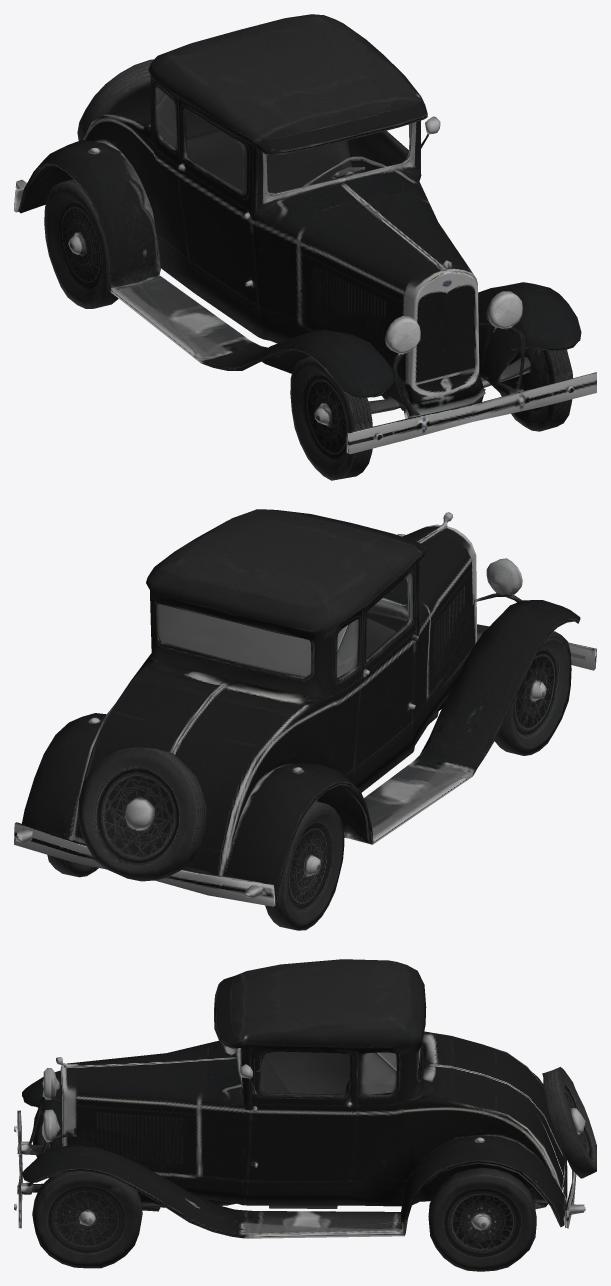
Rendered from coupe.glb.
The picture shows the model from 3 angles, top to bottom: view 1: azimuth 30°, elevation 25°; view 2: azimuth 150°, elevation 25°; view 3: azimuth 270°, elevation 25°; orthographic projection. The views are drawn at different scales.
Visible parts, largest first — view 1: Mesh_0; view 2: Mesh_0; view 3: Mesh_0.
Boxes of the visible parts, x1=… form: Mesh_0: x1=14, y1=14, x2=596, y2=480; Mesh_0: x1=14, y1=509, x2=596, y2=930; Mesh_0: x1=14, y1=959, x2=596, y2=1271.
Size of the model in its own units: 2.09 by 2.08 by 4.64.
Materials: 1 (1 with a texture image).
